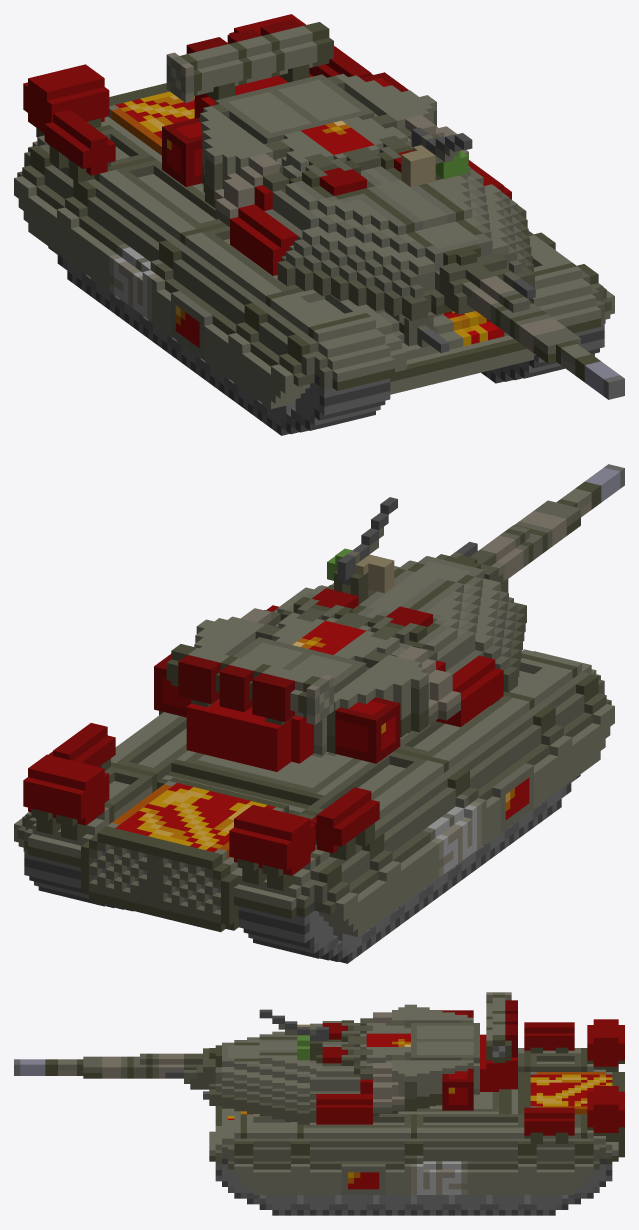
The model's file is tank_full.gltf.
The picture shows the model from 3 angles, top to bottom: view 1: azimuth 30°, elevation 25°; view 2: azimuth 150°, elevation 25°; view 3: azimuth 270°, elevation 25°; orthographic projection. The views are drawn at different scales.
Size of the model in its own units: 0.4124 by 0.3093 by 1.
